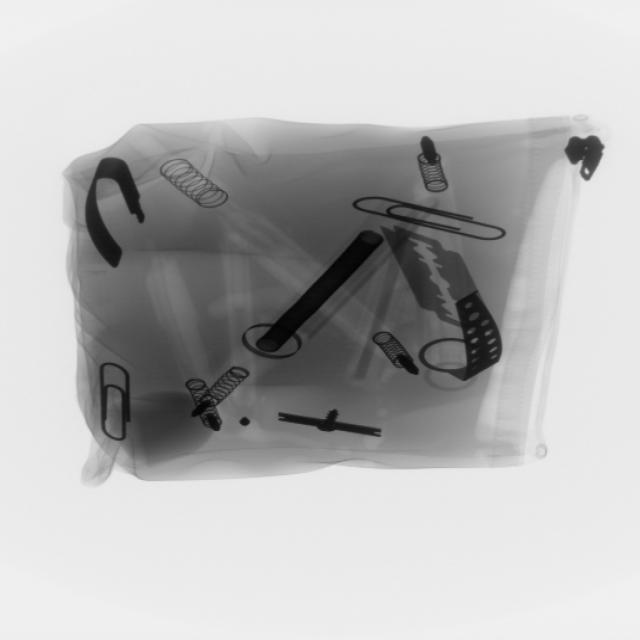BLADE: (384, 226, 484, 336)
